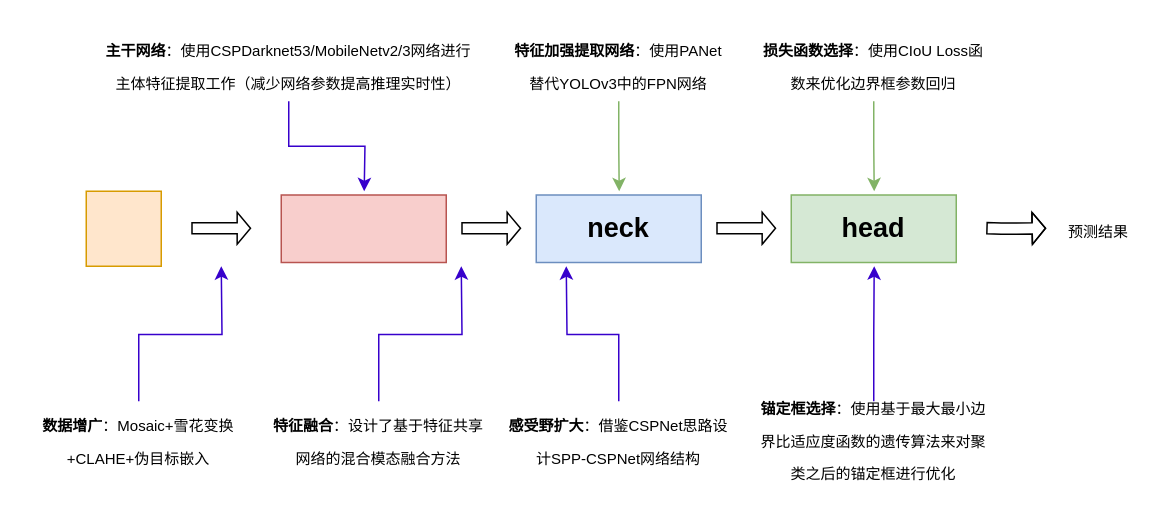
This 1161x513 diagram has some shape labels left out. The centre of each missing label's shape, as x and y in pixels:
"backbone" goes at point (363, 228).
"images" goes at point (123, 228).
